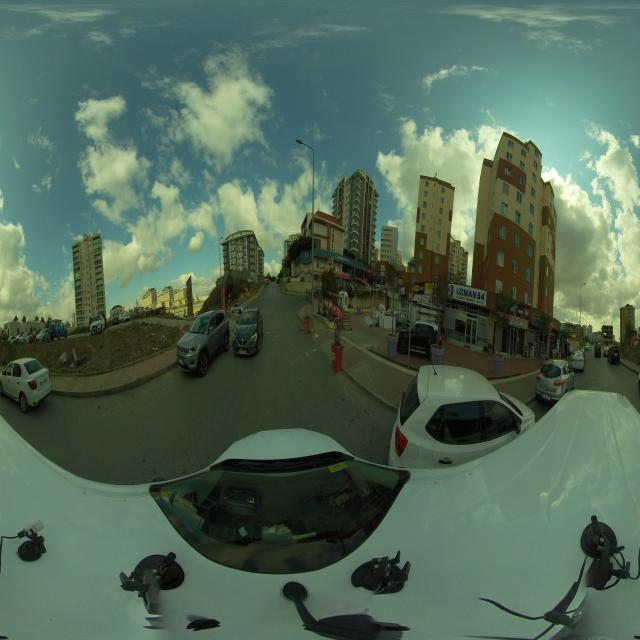SignStore: (450, 284, 487, 307), (413, 283, 432, 294), (334, 253, 350, 265), (518, 305, 530, 319), (336, 271, 351, 279), (532, 314, 539, 326), (552, 322, 556, 330), (401, 287, 405, 294)
